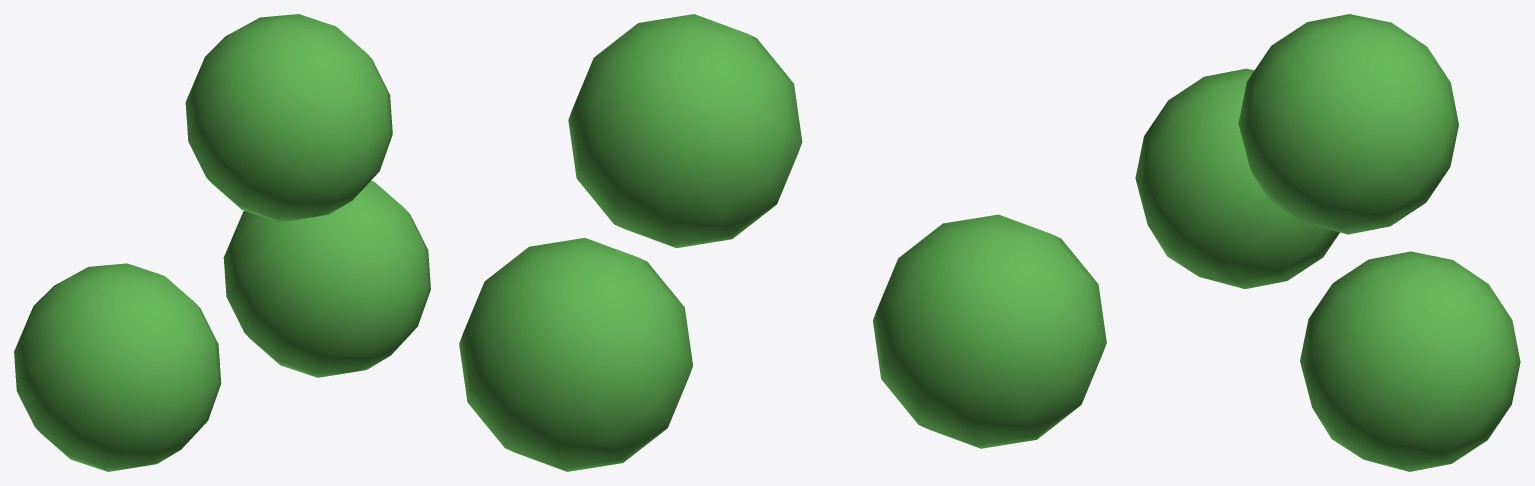
Rendered from linfatico-subaortic-nodes.glb.
3 renders of one model, left to right at view 1: azimuth 30°, elevation 25°; view 2: azimuth 150°, elevation 25°; view 3: azimuth 270°, elevation 25°, orthographic. The views are drawn at different scales.
Visible parts, largest first — view 1: Subaortic nodes; view 2: Subaortic nodes; view 3: Subaortic nodes.
Part boxes in pixels (x1=…): Subaortic nodes: x1=14, y1=14, x2=430, y2=471; Subaortic nodes: x1=459, y1=14, x2=1106, y2=471; Subaortic nodes: x1=1135, y1=14, x2=1520, y2=471.
Size of the model in its own units: 0.00665 by 0.00523 by 0.00454.
